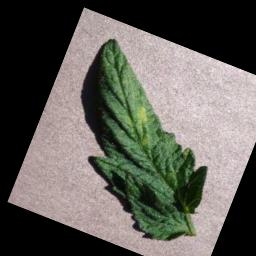Leaf_Mold: (132, 101, 160, 127)
